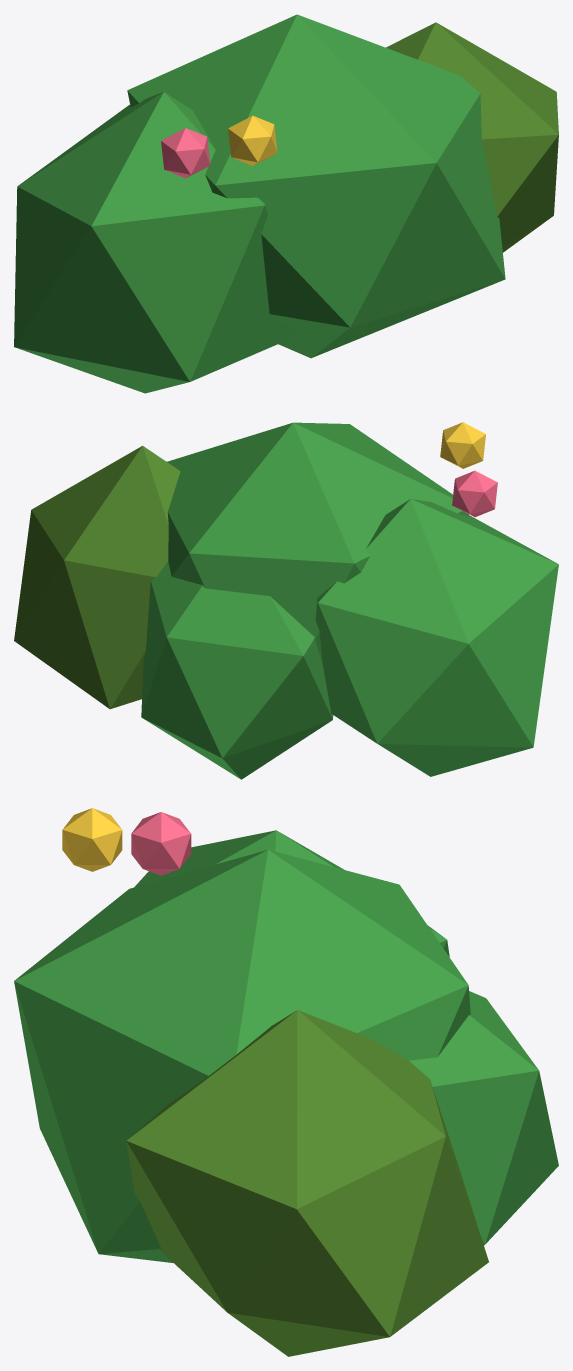
File: bush.glb
The picture shows the model from 3 angles, top to bottom: view 1: azimuth 30°, elevation 25°; view 2: azimuth 150°, elevation 25°; view 3: azimuth 270°, elevation 25°; orthographic projection. The views are drawn at different scales.
Visible parts, largest first — view 1: bush; view 2: bush; view 3: bush.
Boxes of the visible parts, <box> form: bush: <box>14,14,558,393</box>; bush: <box>14,422,558,779</box>; bush: <box>14,808,558,1356</box>.
Size of the model in its own units: 1.57 by 0.9672 by 1.08.
